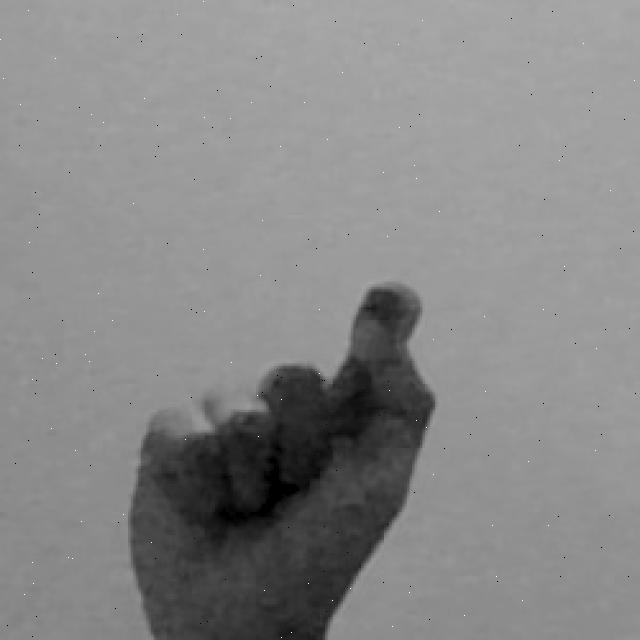T: (120, 276, 438, 640)
